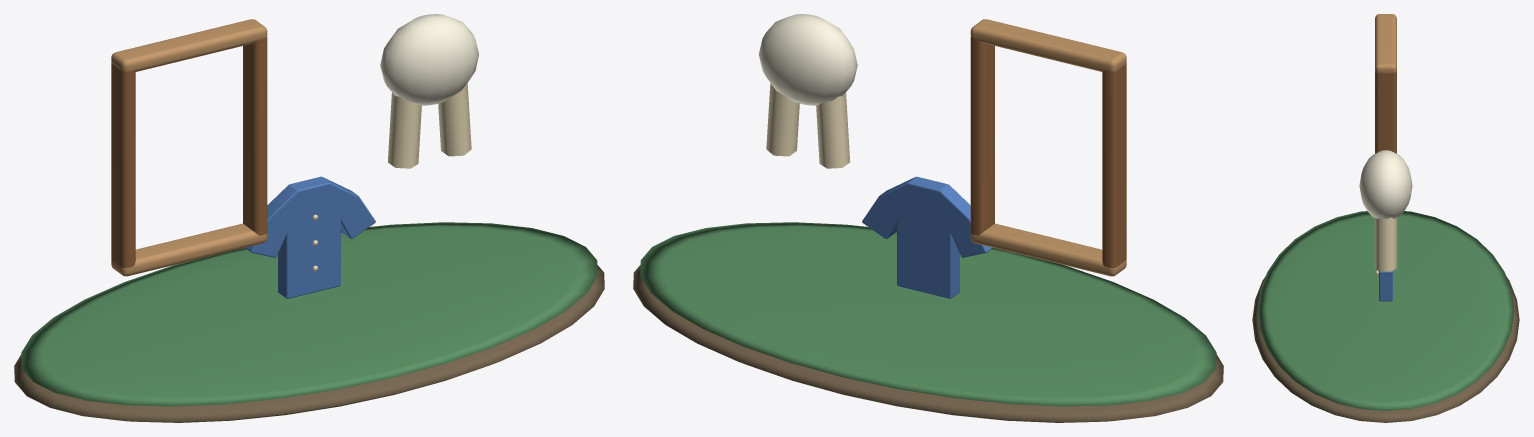
File: complete-first-tooth-through-hole.glb
The picture shows the model from 3 angles, left to right: view 1: azimuth 30°, elevation 25°; view 2: azimuth 150°, elevation 25°; view 3: azimuth 270°, elevation 25°; orthographic projection. The views are drawn at different scales.
Parts seen in each view (by area): view 1: complete-first-tooth-through-hole_surface_01, complete-first-tooth-through-hole_surface_00, complete-first-tooth-through-hole_surface_02, complete-first-tooth-through-hole_surface_06, complete-first-tooth-through-hole_surface_03, complete-first-tooth-through-hole_surface_04, complete-first-tooth-through-hole_surface_05; view 2: complete-first-tooth-through-hole_surface_01, complete-first-tooth-through-hole_surface_00, complete-first-tooth-through-hole_surface_02, complete-first-tooth-through-hole_surface_06, complete-first-tooth-through-hole_surface_03, complete-first-tooth-through-hole_surface_04, complete-first-tooth-through-hole_surface_05; view 3: complete-first-tooth-through-hole_surface_01, complete-first-tooth-through-hole_surface_00, complete-first-tooth-through-hole_surface_04, complete-first-tooth-through-hole_surface_02, complete-first-tooth-through-hole_surface_03, complete-first-tooth-through-hole_surface_05, complete-first-tooth-through-hole_surface_06.
Boxes of the visible parts, x1,y1,x2,y2 form: complete-first-tooth-through-hole_surface_01: (21,222,597,406); complete-first-tooth-through-hole_surface_00: (14,265,604,422); complete-first-tooth-through-hole_surface_02: (111,37,267,268); complete-first-tooth-through-hole_surface_06: (245,176,375,298); complete-first-tooth-through-hole_surface_03: (111,19,267,276); complete-first-tooth-through-hole_surface_04: (380,14,479,105); complete-first-tooth-through-hole_surface_05: (312,83,471,271); complete-first-tooth-through-hole_surface_01: (640,222,1216,406); complete-first-tooth-through-hole_surface_00: (633,265,1223,422); complete-first-tooth-through-hole_surface_02: (970,37,1126,268); complete-first-tooth-through-hole_surface_06: (862,176,992,298); complete-first-tooth-through-hole_surface_03: (970,19,1126,276); complete-first-tooth-through-hole_surface_04: (758,14,857,105); complete-first-tooth-through-hole_surface_05: (766,83,849,168); complete-first-tooth-through-hole_surface_01: (1257,211,1514,410); complete-first-tooth-through-hole_surface_00: (1252,276,1519,422); complete-first-tooth-through-hole_surface_04: (1359,150,1412,219); complete-first-tooth-through-hole_surface_02: (1375,71,1396,153); complete-first-tooth-through-hole_surface_03: (1375,14,1396,73); complete-first-tooth-through-hole_surface_05: (1374,217,1397,274); complete-first-tooth-through-hole_surface_06: (1379,271,1392,301).
Bounding box in the file's own units: 4.56 × 2.58 × 2.5.
